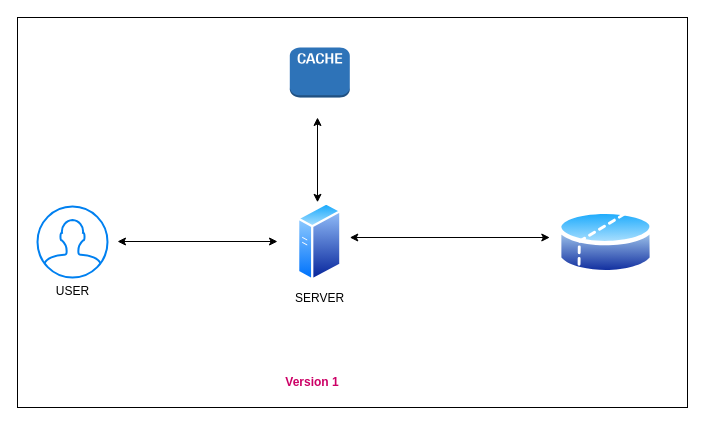
Image size: 705x425. Some labels were removed from this diagram. The shapes that lost their labels are listed below. From the top down, each one's centre as x and y in pixels, then its label:
At [319,72]: "CACHE".
At [605,242]: "DATABASE".
